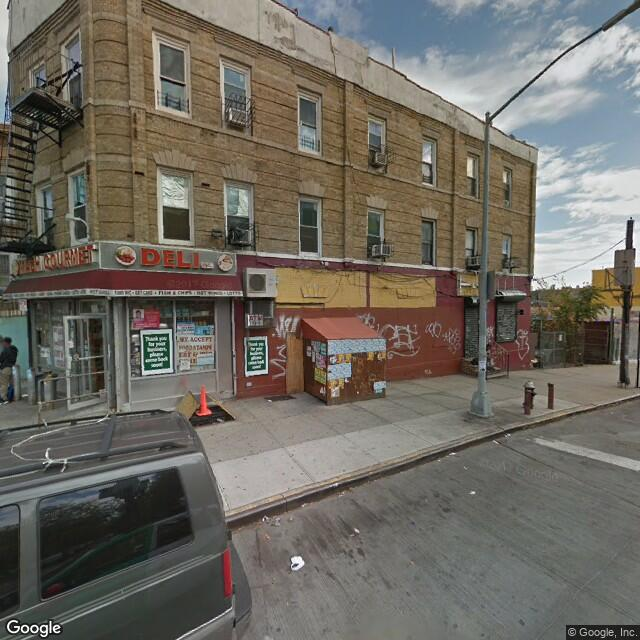litter: (259, 513, 284, 527), (435, 450, 457, 465), (493, 430, 511, 446), (260, 513, 281, 526), (345, 527, 364, 539), (463, 487, 481, 498), (291, 555, 303, 567), (338, 490, 348, 495), (267, 399, 274, 403)
